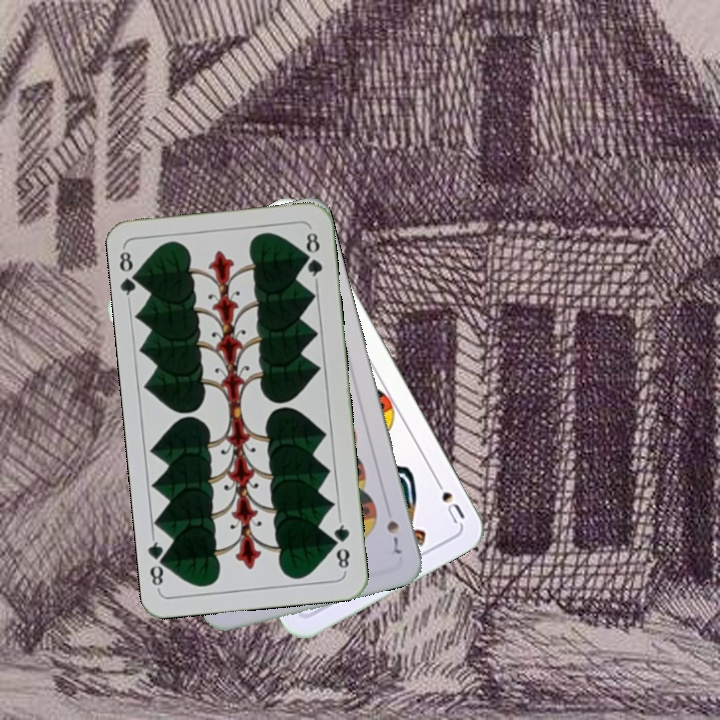G8: (115, 245, 145, 304), (328, 515, 353, 574)
S7: (382, 516, 405, 557)
SU: (429, 472, 468, 526)
